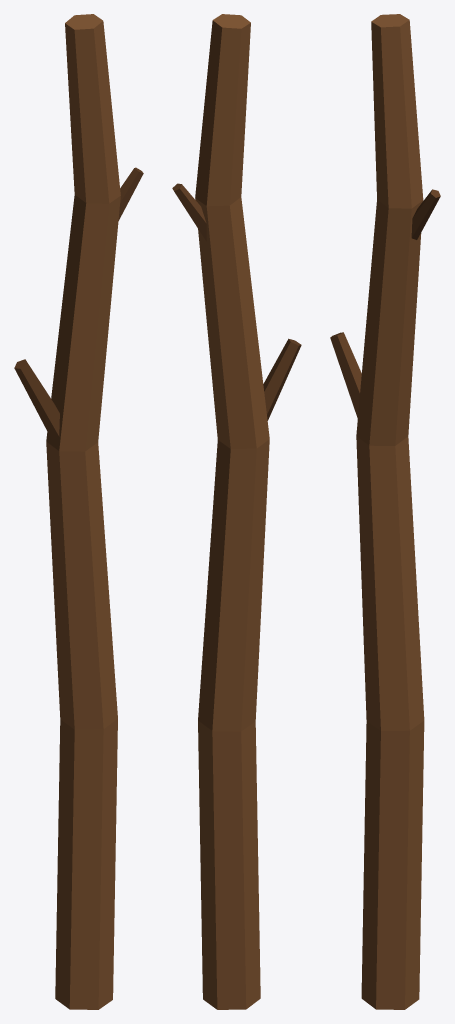
File: w_stick.glb
3 views of the same model, side by side, from view 1: azimuth 30°, elevation 25°; view 2: azimuth 210°, elevation 25°; view 3: azimuth 330°, elevation 25° (orthographic).
Parts seen in each view (by area): view 1: stick; view 2: stick; view 3: stick.
Part boxes in pixels (<box>): stick: <box>14,14,143,1009</box>; stick: <box>172,14,301,1009</box>; stick: <box>330,14,440,1009</box>.
Bounding box in the file's own units: 0.1416 × 1.12 × 0.061.
